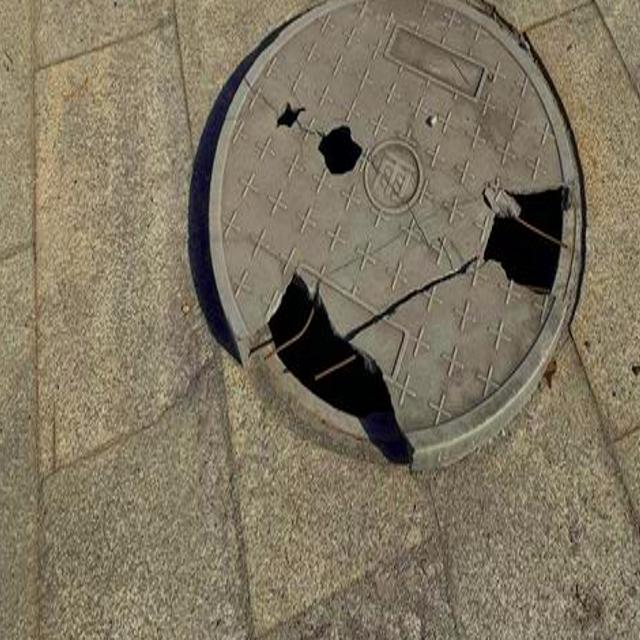broke: (174, 0, 602, 482)
